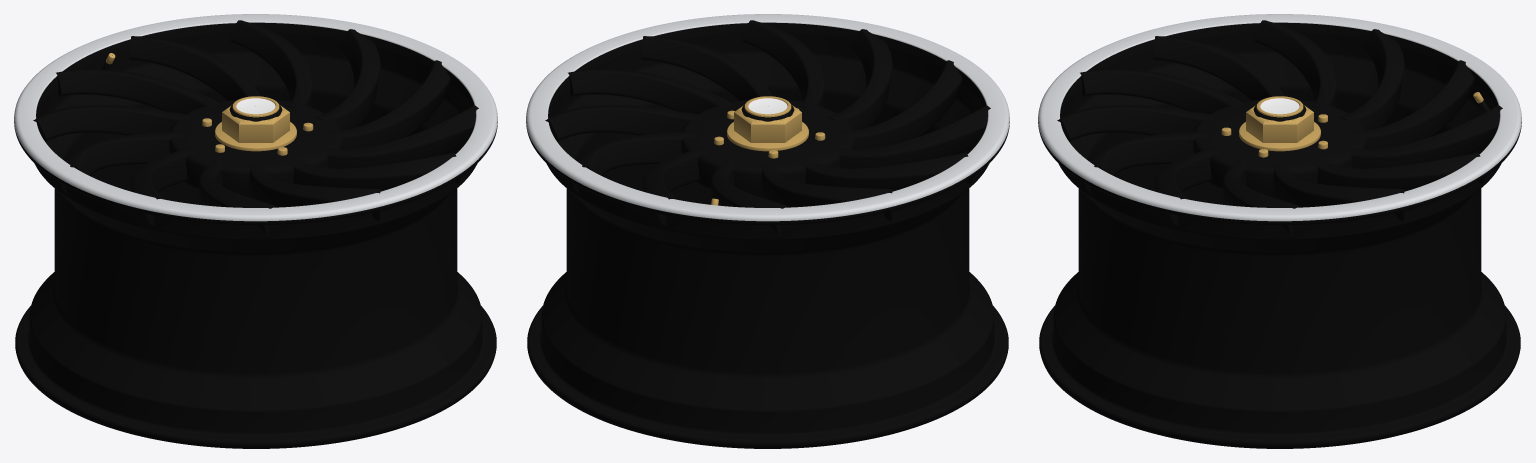
The model's file is rim-aero.glb.
The picture shows the model from 3 angles, left to right: view 1: azimuth 30°, elevation 25°; view 2: azimuth 150°, elevation 25°; view 3: azimuth 270°, elevation 25°; orthographic projection.
Visible parts, largest first — view 1: GK_R_aero_gloss_black_20_10.5_centre_Rim, GK_R_aero_gloss_black_20_10.5_centre_Hub, GK_R_aero_gloss_black_20_10.5_centre_Lock, GK_R_aero_gloss_black_20_10.5_centre_Cap; view 2: GK_R_aero_gloss_black_20_10.5_centre_Rim, GK_R_aero_gloss_black_20_10.5_centre_Hub, GK_R_aero_gloss_black_20_10.5_centre_Lock, GK_R_aero_gloss_black_20_10.5_centre_Cap; view 3: GK_R_aero_gloss_black_20_10.5_centre_Rim, GK_R_aero_gloss_black_20_10.5_centre_Hub, GK_R_aero_gloss_black_20_10.5_centre_Lock, GK_R_aero_gloss_black_20_10.5_centre_Cap.
Part boxes in pixels (bbox=[...]): GK_R_aero_gloss_black_20_10.5_centre_Rim: bbox=[14, 14, 497, 448]; GK_R_aero_gloss_black_20_10.5_centre_Hub: bbox=[169, 99, 342, 197]; GK_R_aero_gloss_black_20_10.5_centre_Lock: bbox=[202, 104, 313, 155]; GK_R_aero_gloss_black_20_10.5_centre_Cap: bbox=[229, 96, 282, 121]; GK_R_aero_gloss_black_20_10.5_centre_Rim: bbox=[526, 14, 1009, 448]; GK_R_aero_gloss_black_20_10.5_centre_Hub: bbox=[681, 99, 854, 197]; GK_R_aero_gloss_black_20_10.5_centre_Lock: bbox=[714, 104, 825, 158]; GK_R_aero_gloss_black_20_10.5_centre_Cap: bbox=[741, 96, 794, 121]; GK_R_aero_gloss_black_20_10.5_centre_Rim: bbox=[1038, 14, 1521, 448]; GK_R_aero_gloss_black_20_10.5_centre_Hub: bbox=[1193, 99, 1366, 197]; GK_R_aero_gloss_black_20_10.5_centre_Lock: bbox=[1221, 104, 1327, 157]; GK_R_aero_gloss_black_20_10.5_centre_Cap: bbox=[1253, 96, 1306, 121].
Size of the model in its own units: 0.543 by 0.3012 by 0.543.
